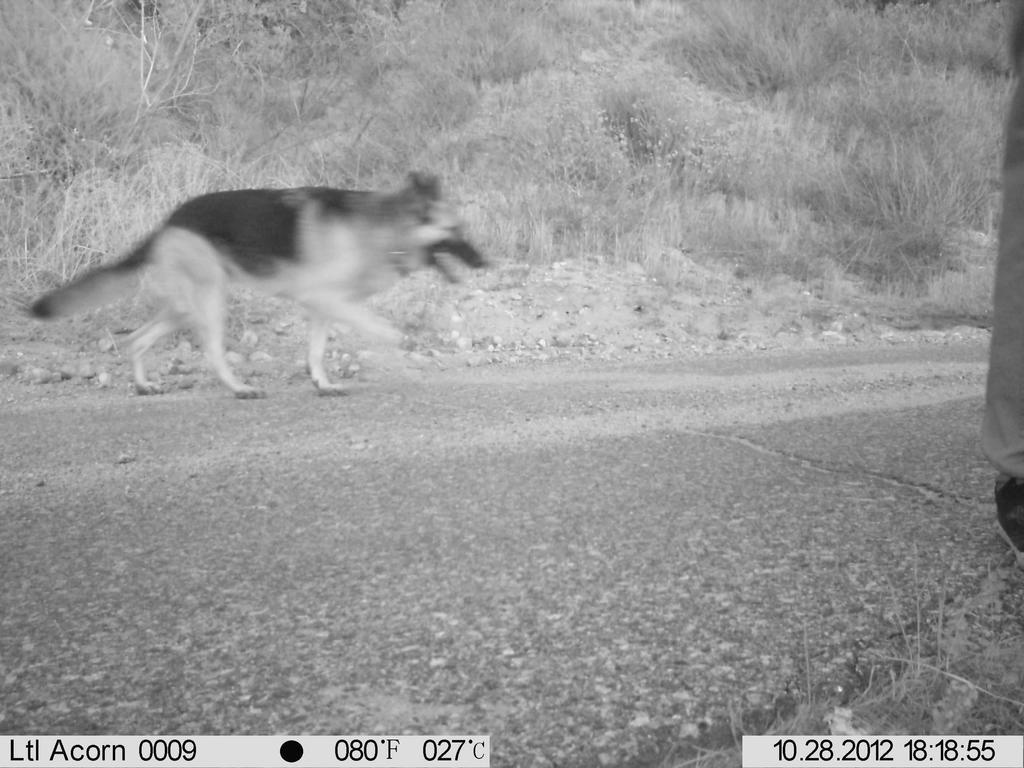dog: (30, 155, 496, 407)
